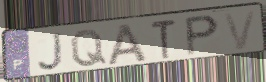A: (106, 22, 150, 67)
J: (36, 30, 66, 72)
P: (183, 13, 222, 59)
Q: (69, 28, 109, 69)
T: (149, 18, 179, 61)
V: (221, 9, 259, 52)
